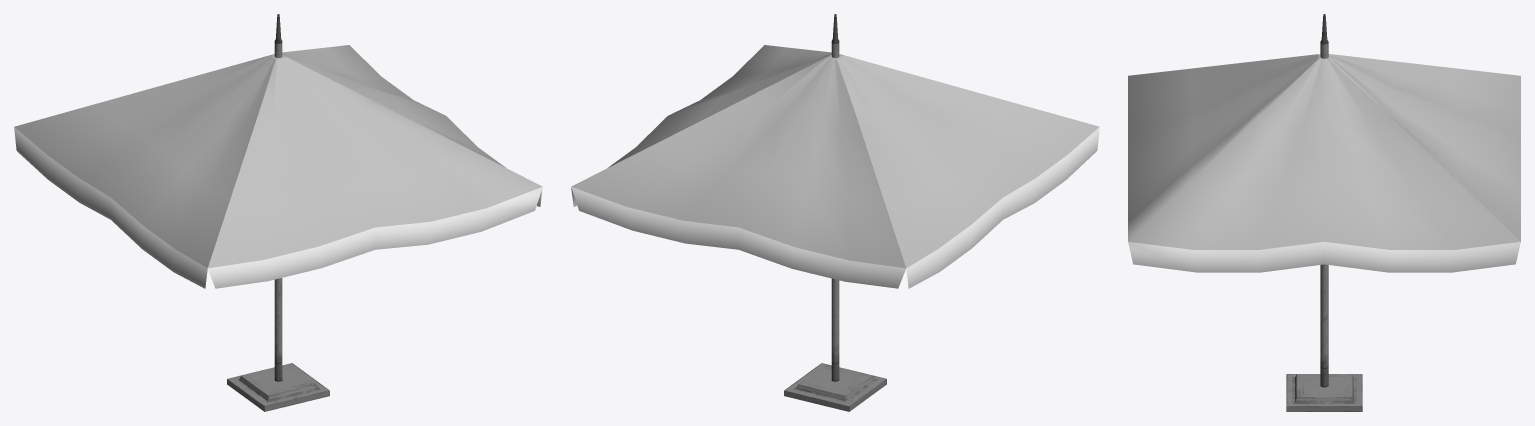
The model's file is MB_Parasol_Pack_03.fbx.
3 renders of one model, left to right at view 1: azimuth 30°, elevation 25°; view 2: azimuth 150°, elevation 25°; view 3: azimuth 270°, elevation 25°, orthographic.
Visible parts, largest first — view 1: MB_Parasol_Pack_03_LOD0; view 2: MB_Parasol_Pack_03_LOD0; view 3: MB_Parasol_Pack_03_LOD0.
Part boxes in pixels (x1=…): MB_Parasol_Pack_03_LOD0: x1=14, y1=14, x2=542, y2=411; MB_Parasol_Pack_03_LOD0: x1=571, y1=14, x2=1099, y2=411; MB_Parasol_Pack_03_LOD0: x1=1128, y1=14, x2=1520, y2=411.
Size of what is drawn, in the model's own units: 416 by 445 by 416.
